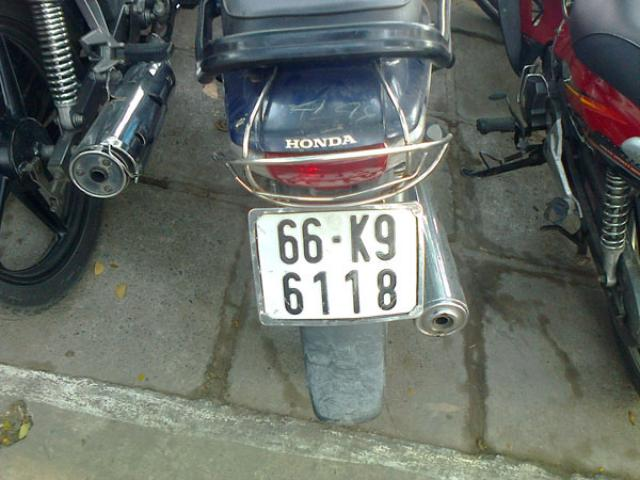plate: (255, 212, 421, 322)
